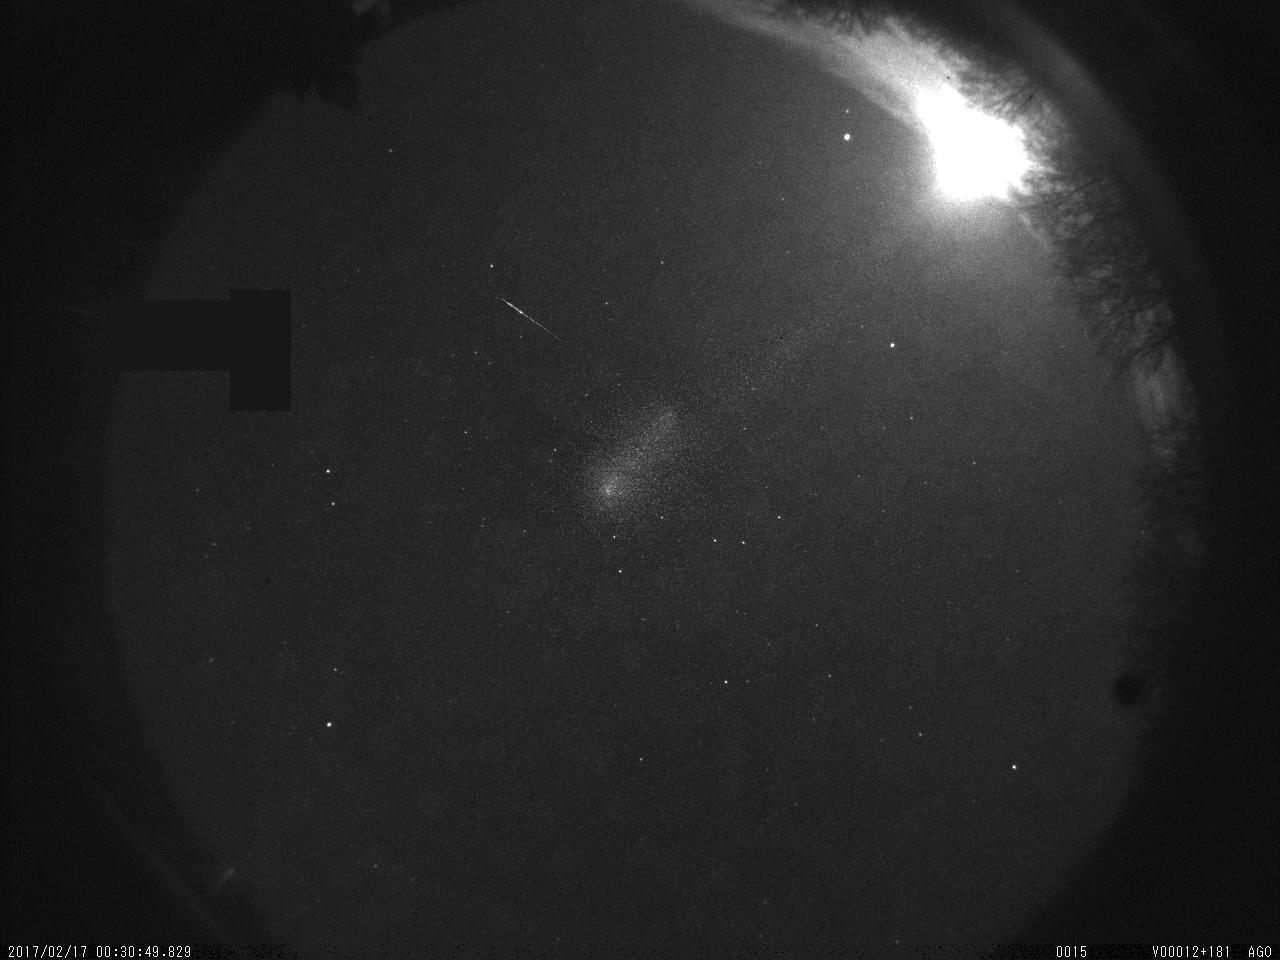meteor: (461, 277, 587, 363)
